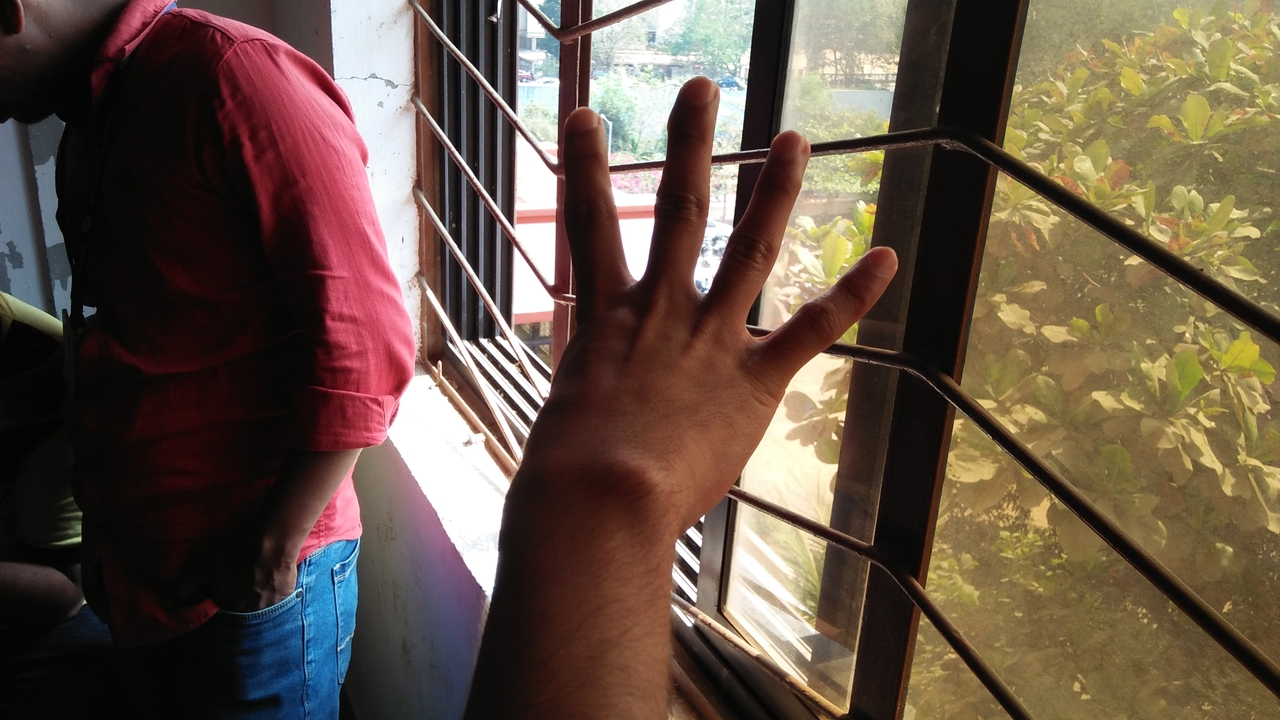fingertip: (666, 68, 724, 120), (558, 100, 612, 152), (762, 120, 814, 172), (844, 242, 896, 290)
